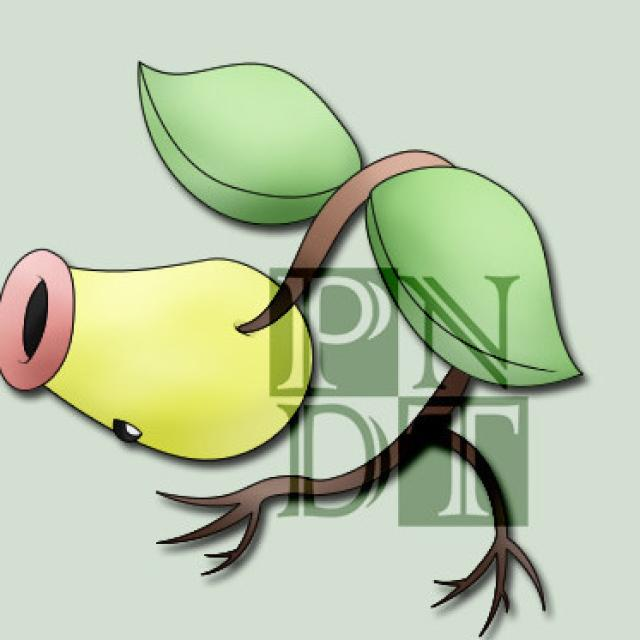Bellsprout: (0, 150, 496, 477)
